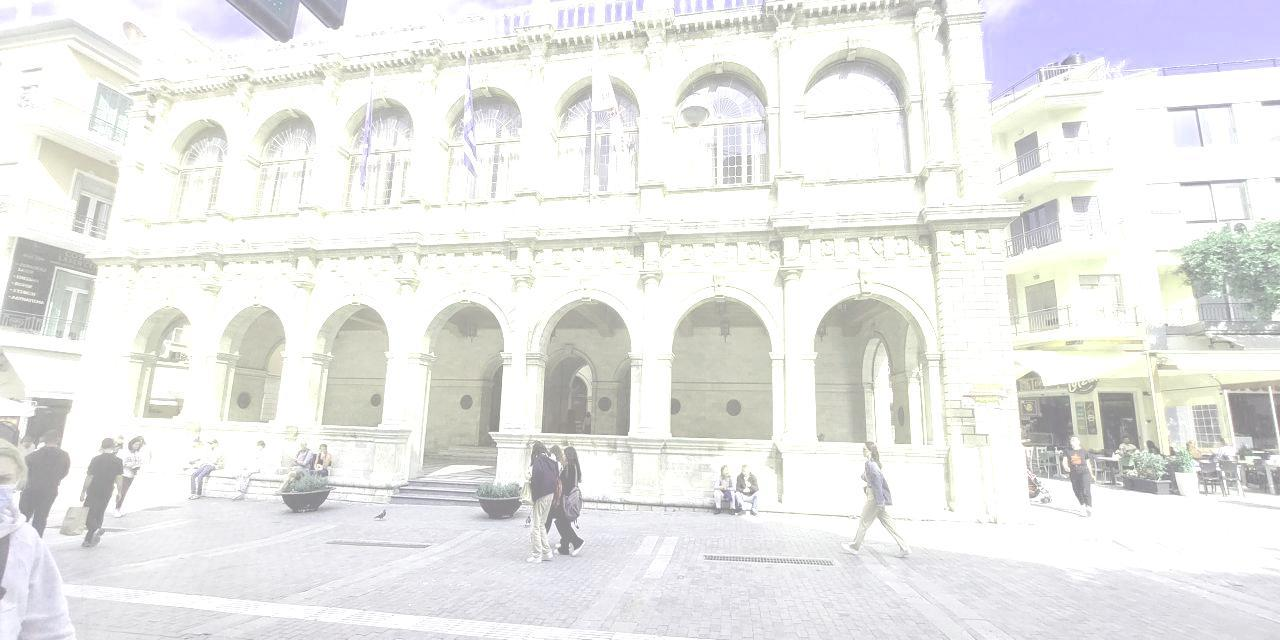Loggia: (58, 1, 1050, 529)
